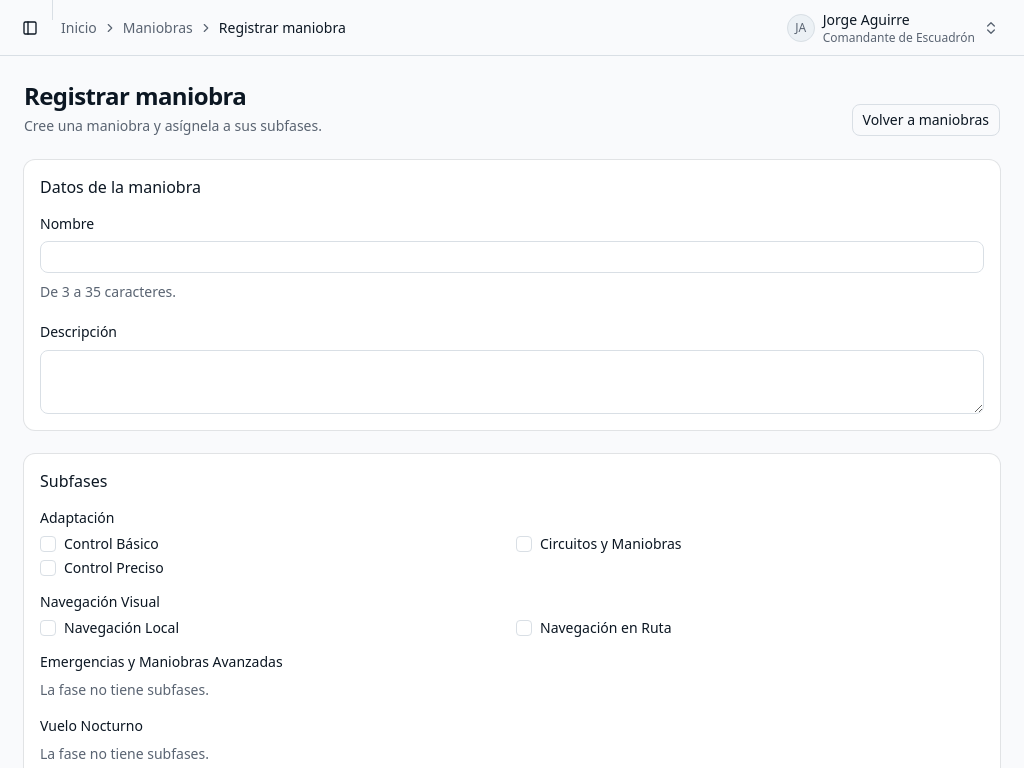
Test: Formulario de maniobra › CA-MAN-06 los errores del backend aparecen bajo su campo y bajo el selector de subfases
Type "Autorrotación doble" into the field labelled "Nombre" at (512, 257), box [40,241,984,273]
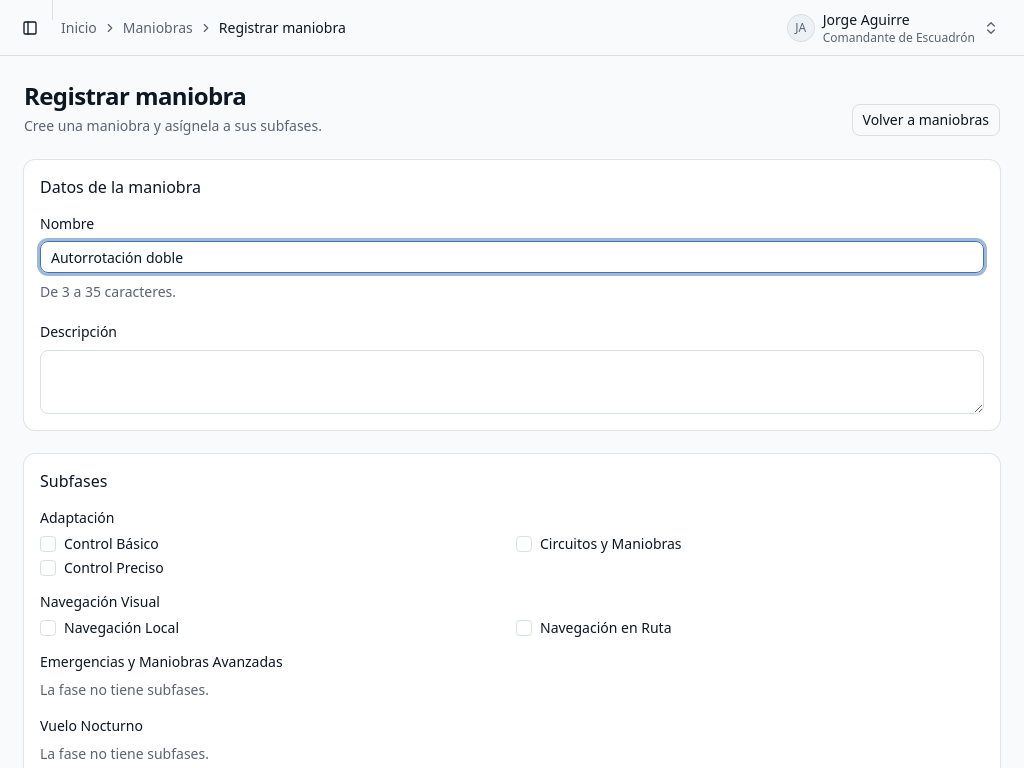
Click the checkbox named "Circuitos y Maniobras" next to "Circuitos y Maniobras" at (524, 544), box [516,536,532,552]
(page scrolled)
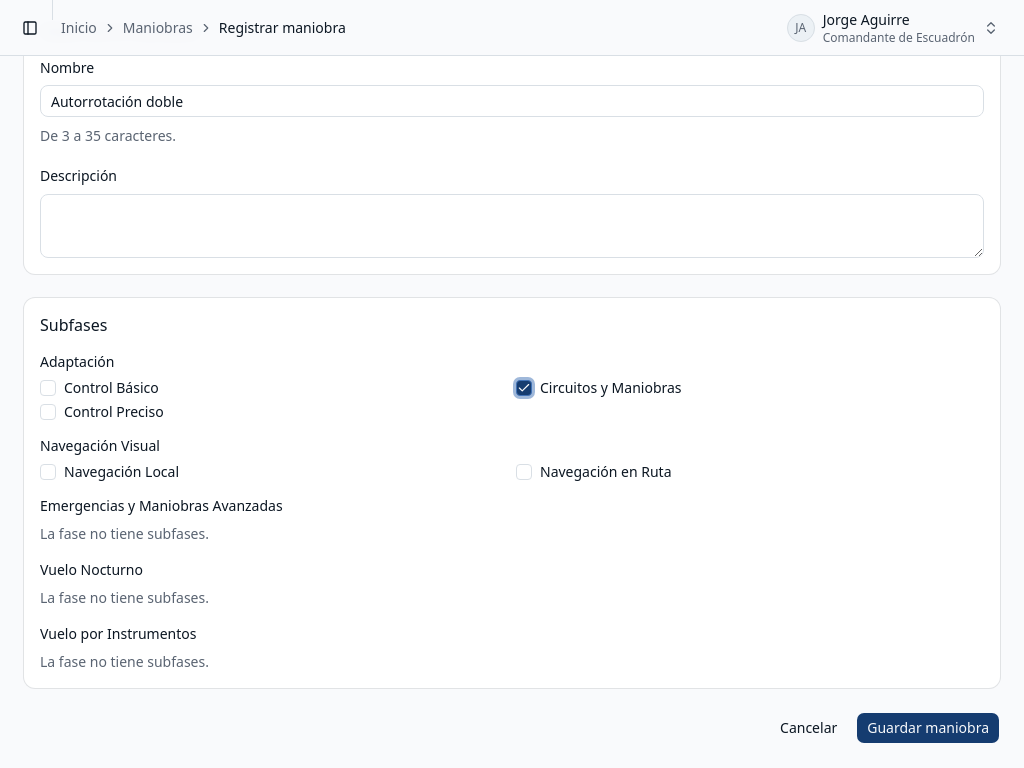
Click the button "Guardar maniobra" at (928, 728), box [856,712,1000,744]
(page scrolled)
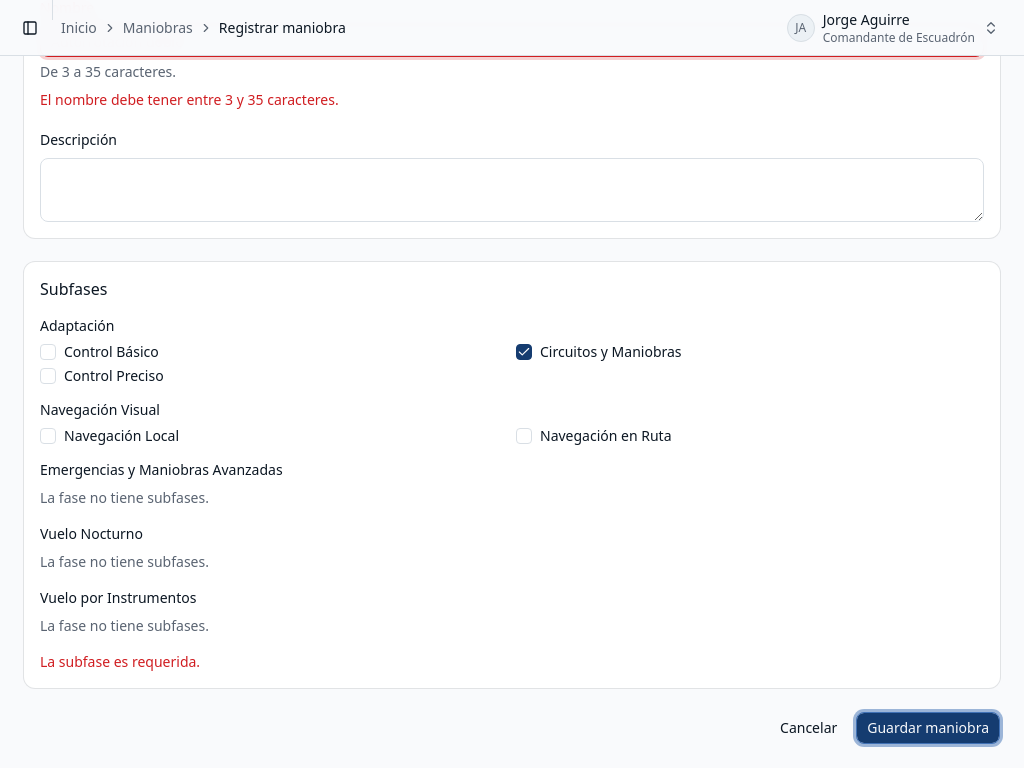
Expected: the text "El nombre debe tener entre 3 y 35 caracteres." is shown, [40,90,339,109]
Expected: the text "La subfase es requerida." is shown, [40,652,200,670]
